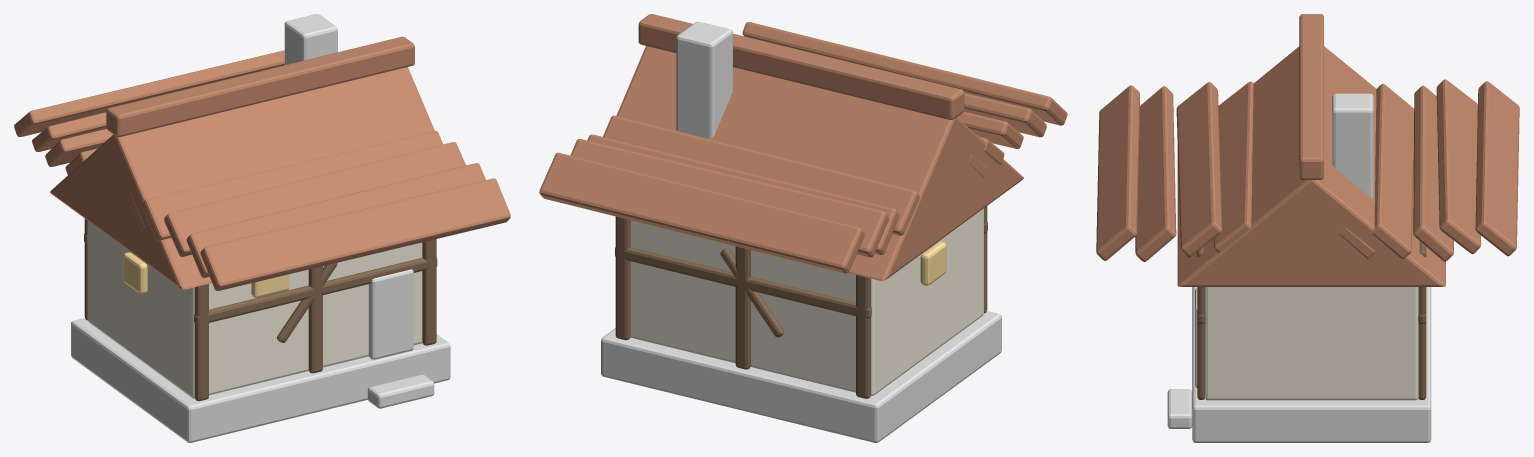
Rendered from cottage_a.glb.
3 renders of one model, left to right at view 1: azimuth 30°, elevation 25°; view 2: azimuth 150°, elevation 25°; view 3: azimuth 270°, elevation 25°, orthographic. The views are drawn at different scales.
Parts seen in each view (by area): view 1: roof_body, walls, base, shingle.009, ridge, shingle.007, shingle.006, shingle.008, shingle.004, door, rail, chimney (+9 smaller); view 2: walls, roof_body, base, shingle.004, ridge, shingle.001, shingle.003, chimney, shingle.009, rail.001, shingle.002, post.005 (+6 smaller); view 3: roof_body, walls, base, shingle.007, shingle.004, shingle.009, shingle.003, shingle.001, shingle.008, shingle.006, shingle.002, ridge (+5 smaller).
Boxes of the visible parts, x1=… form: roof_body: x1=50, y1=67, x2=434, y2=289; walls: x1=87, y1=221, x2=422, y2=398; base: x1=71, y1=318, x2=450, y2=442; shingle.009: x1=200, y1=178, x2=510, y2=290; ridge: x1=106, y1=36, x2=414, y2=137; shingle.007: x1=164, y1=142, x2=465, y2=256; shingle.006: x1=142, y1=131, x2=443, y2=242; shingle.008: x1=186, y1=163, x2=485, y2=277; shingle.004: x1=14, y1=50, x2=284, y2=136; door: x1=368, y1=269, x2=413, y2=359; rail: x1=194, y1=257, x2=437, y2=325; chimney: x1=284, y1=14, x2=337, y2=64; walls: x1=630, y1=208, x2=983, y2=396; roof_body: x1=616, y1=46, x2=1023, y2=281; base: x1=601, y1=311, x2=1001, y2=442; shingle.004: x1=539, y1=152, x2=864, y2=273; ridge: x1=638, y1=14, x2=964, y2=119; shingle.001: x1=603, y1=115, x2=919, y2=235; shingle.003: x1=570, y1=139, x2=889, y2=257; chimney: x1=676, y1=21, x2=732, y2=138; shingle.009: x1=742, y1=22, x2=1067, y2=125; rail.001: x1=615, y1=247, x2=871, y2=318; shingle.002: x1=587, y1=134, x2=899, y2=254; post.005: x1=615, y1=216, x2=630, y2=340; roof_body: x1=1177, y1=46, x2=1445, y2=286; walls: x1=1205, y1=287, x2=1418, y2=400; base: x1=1192, y1=287, x2=1431, y2=442; shingle.007: x1=1176, y1=82, x2=1222, y2=257; shingle.004: x1=1475, y1=81, x2=1519, y2=256; shingle.009: x1=1096, y1=85, x2=1139, y2=260; shingle.003: x1=1436, y1=79, x2=1481, y2=254; shingle.001: x1=1373, y1=84, x2=1414, y2=258; shingle.008: x1=1135, y1=86, x2=1176, y2=261; shingle.006: x1=1214, y1=81, x2=1253, y2=252; shingle.002: x1=1413, y1=85, x2=1453, y2=261; ridge: x1=1299, y1=14, x2=1323, y2=179.
Bounding box in the file's own units: 0.42 × 0.4202 × 0.5142.
